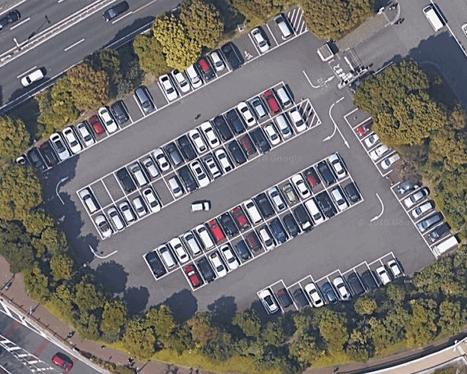parkingspot: (10, 11, 300, 175), (75, 79, 298, 217), (89, 105, 312, 242), (141, 149, 351, 282), (179, 175, 365, 293), (256, 251, 406, 317), (389, 181, 461, 261), (343, 107, 405, 179)
